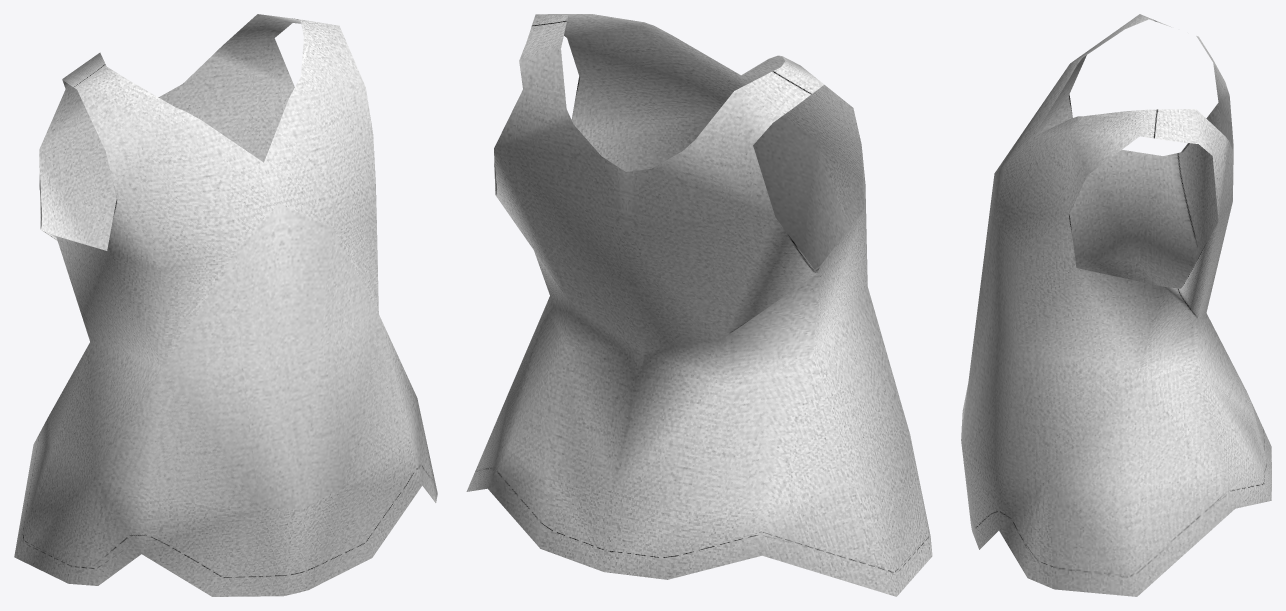
The model's file is Tanktop.glb.
3 renders of one model, left to right at view 1: azimuth 30°, elevation 25°; view 2: azimuth 150°, elevation 25°; view 3: azimuth 270°, elevation 25°, orthographic. The views are drawn at different scales.
Visible parts, largest first — view 1: Tanktop; view 2: Tanktop; view 3: Tanktop.
Boxes of the visible parts, box(x1,y1,x2,y2) form: Tanktop: box(14, 14, 437, 596); Tanktop: box(466, 14, 932, 596); Tanktop: box(961, 14, 1271, 596).
Size of the model in its own units: 6.32 by 7.45 by 4.56.
1 material, 1 textured.
